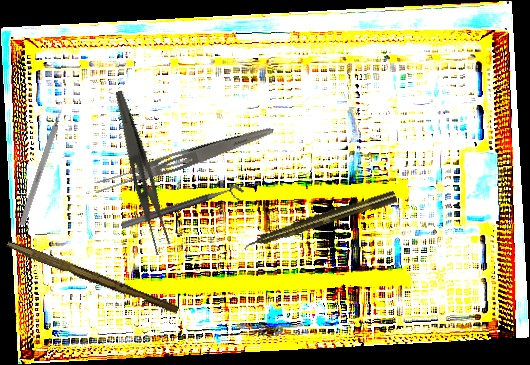Dressing Forceps: (90, 117, 277, 199), (96, 89, 181, 257)
Fixation Ring: (120, 182, 247, 240)
Handpiece: (241, 189, 398, 253)
Hook Surgical: (18, 102, 67, 226)
Scalpel Handle: (4, 240, 181, 315)
